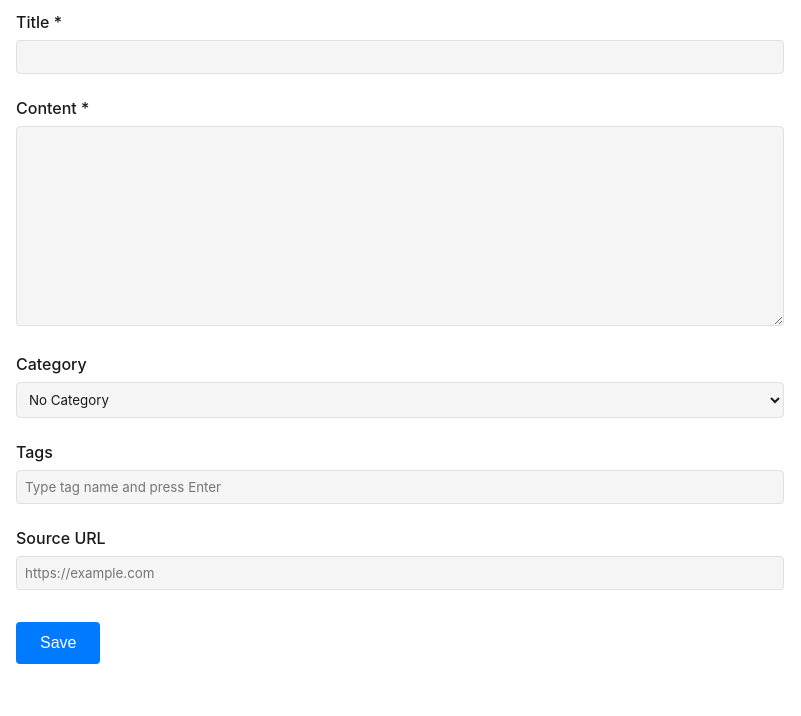
Test: NoteEditor Component › should validate required fields
The width and height of the screenshot is (801, 716).
Expected: the field labelled "Title *" is shown, [16,40,784,74]
Click the button "Save" at coordinates (58, 643), box [16,622,100,664]
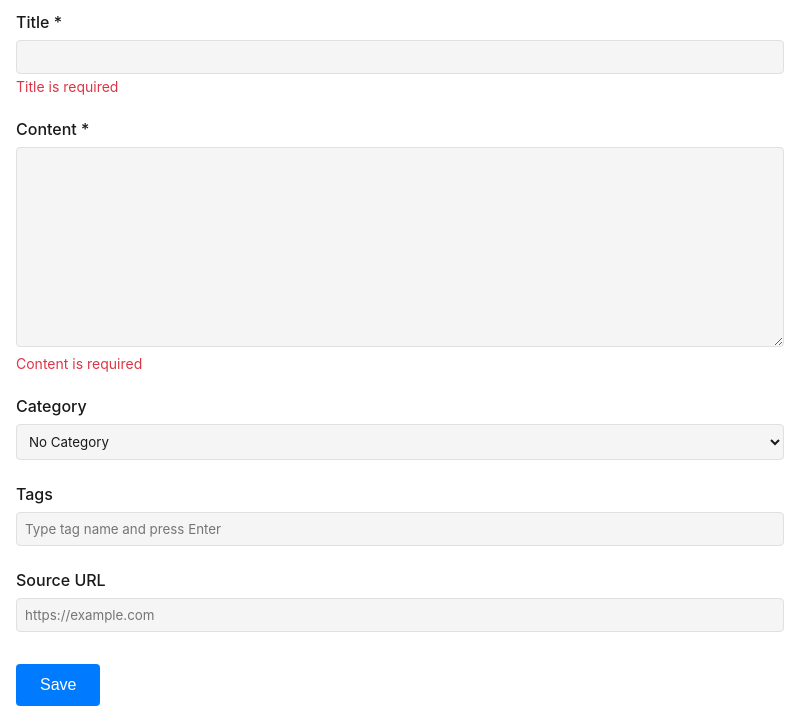
Result: the text "Title is required" is shown at [16,78,118,95]
